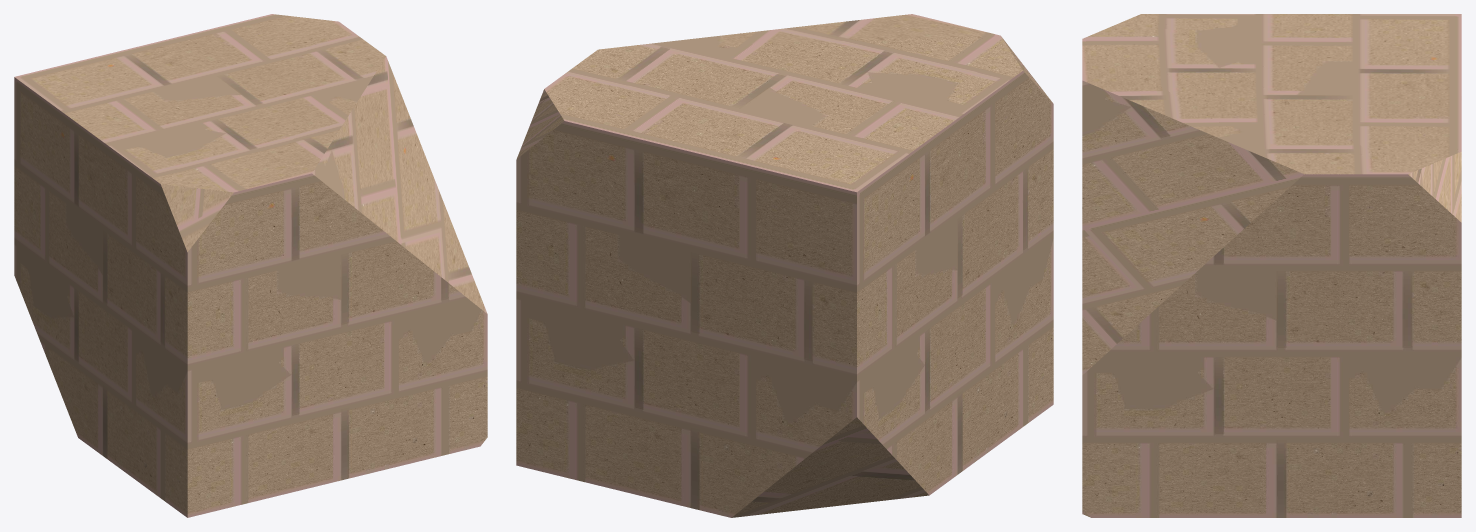
File: BrokenBrick01.FBX
The picture shows the model from 3 angles, left to right: view 1: azimuth 30°, elevation 25°; view 2: azimuth 150°, elevation 25°; view 3: azimuth 270°, elevation 25°; orthographic projection. The views are drawn at different scales.
Parts seen in each view (by area): view 1: Box003; view 2: Box003; view 3: Box003.
Boxes of the visible parts, box(x1,y1,x2,y2) form: Box003: box(14, 14, 487, 517); Box003: box(516, 14, 1053, 517); Box003: box(1082, 14, 1461, 517).
Bounding box in the file's own units: 10 × 10 × 10.
Materials: 1 (1 with a texture image).
